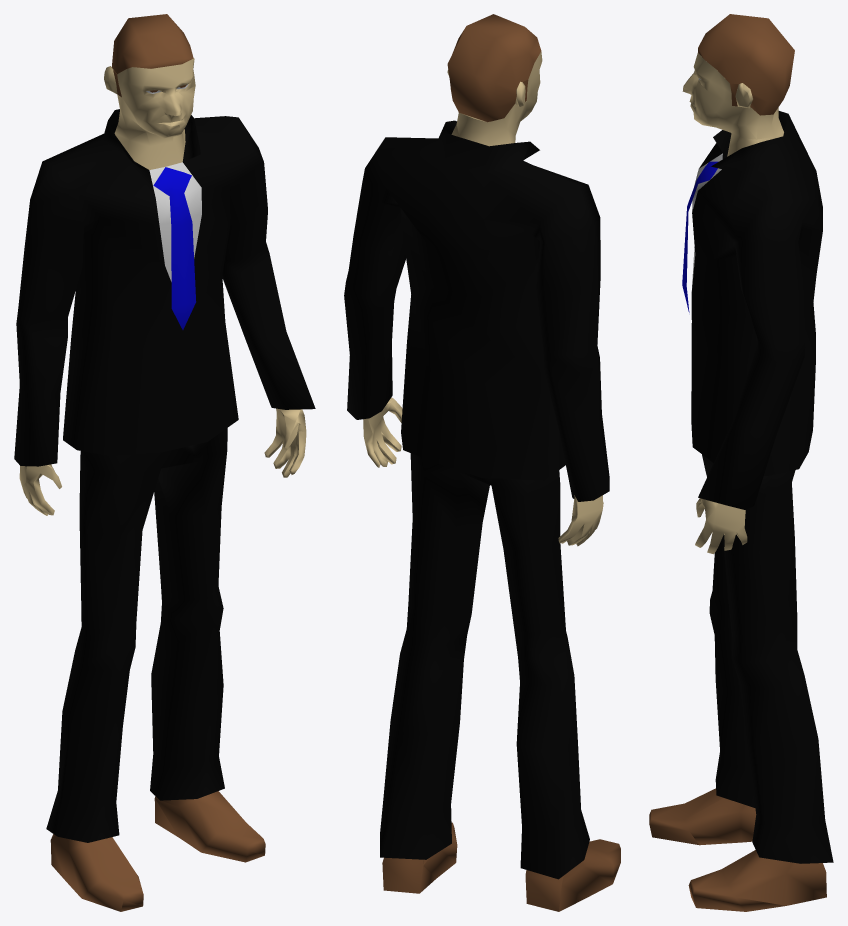
File: officeworker2.dae
The picture shows the model from 3 angles, left to right: view 1: azimuth 30°, elevation 25°; view 2: azimuth 150°, elevation 25°; view 3: azimuth 270°, elevation 25°; orthographic projection.
Visible parts, largest first — view 1: polymsh_Pts_Material__2__Surf, polymsh2_Pts_Material__3__Surf, polymsh4_Pts_Material__5__Surf, polymsh_detached5_Pts_Material__1__Surf, polymsh3_Pts_Material__4__Surf; view 2: polymsh_Pts_Material__2__Surf, polymsh2_Pts_Material__3__Surf, polymsh4_Pts_Material__5__Surf; view 3: polymsh_Pts_Material__2__Surf, polymsh2_Pts_Material__3__Surf, polymsh4_Pts_Material__5__Surf, polymsh_detached5_Pts_Material__1__Surf.
Boxes of the visible parts, x1=… form: polymsh_Pts_Material__2__Surf: x1=14, y1=109, x2=315, y2=842; polymsh2_Pts_Material__3__Surf: x1=50, y1=14, x2=265, y2=911; polymsh4_Pts_Material__5__Surf: x1=19, y1=58, x2=306, y2=515; polymsh_detached5_Pts_Material__1__Surf: x1=153, y1=167, x2=196, y2=329; polymsh3_Pts_Material__4__Surf: x1=146, y1=84, x2=201, y2=281; polymsh_Pts_Material__2__Surf: x1=344, y1=120, x2=609, y2=879; polymsh2_Pts_Material__3__Surf: x1=382, y1=14, x2=620, y2=911; polymsh4_Pts_Material__5__Surf: x1=363, y1=51, x2=603, y2=546; polymsh_Pts_Material__2__Surf: x1=691, y1=111, x2=833, y2=863; polymsh2_Pts_Material__3__Surf: x1=649, y1=14, x2=826, y2=911; polymsh4_Pts_Material__5__Surf: x1=682, y1=53, x2=783, y2=554; polymsh_detached5_Pts_Material__1__Surf: x1=682, y1=161, x2=718, y2=312.
Bounding box in the file's own units: 7.07 × 20.88 × 4.15.
